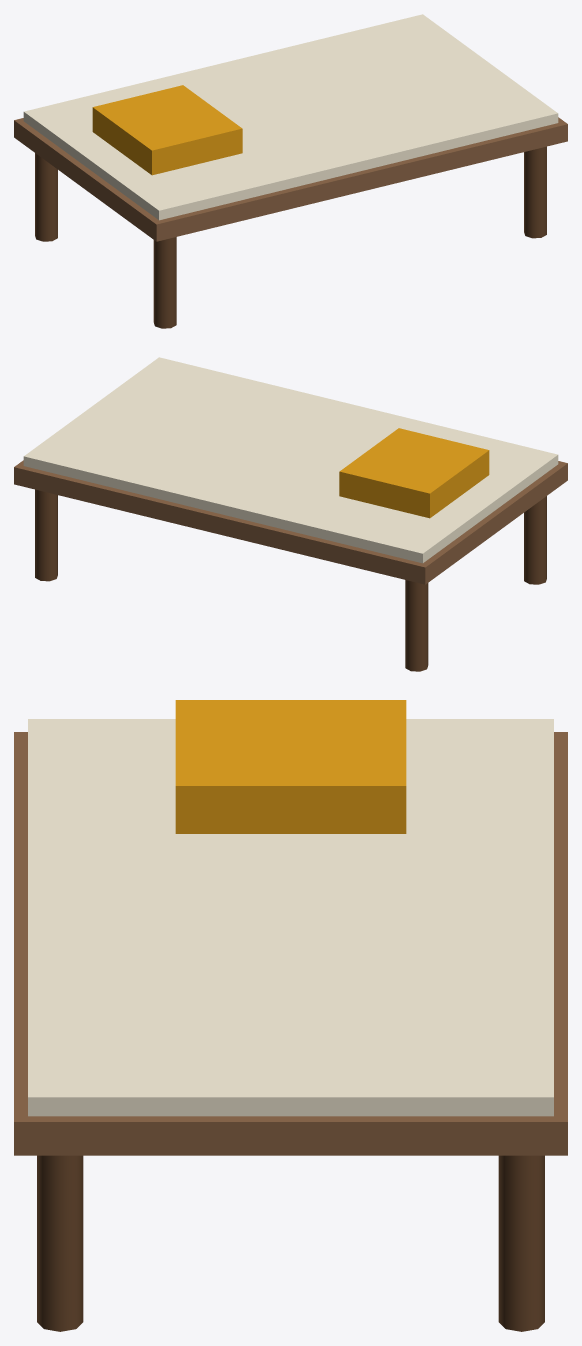
Rendered from cot.glb.
3 views of the same model, one above another, from view 1: azimuth 30°, elevation 25°; view 2: azimuth 150°, elevation 25°; view 3: azimuth 270°, elevation 25° (orthographic). The views are drawn at different scales.
Parts seen in each view (by area): view 1: cot; view 2: cot; view 3: cot.
Part boxes in pixels (bbox=[...]): cot: bbox=[14, 14, 567, 328]; cot: bbox=[14, 357, 567, 671]; cot: bbox=[14, 700, 567, 1331].
Size of the model in its own units: 2 by 0.685 by 1.2.
